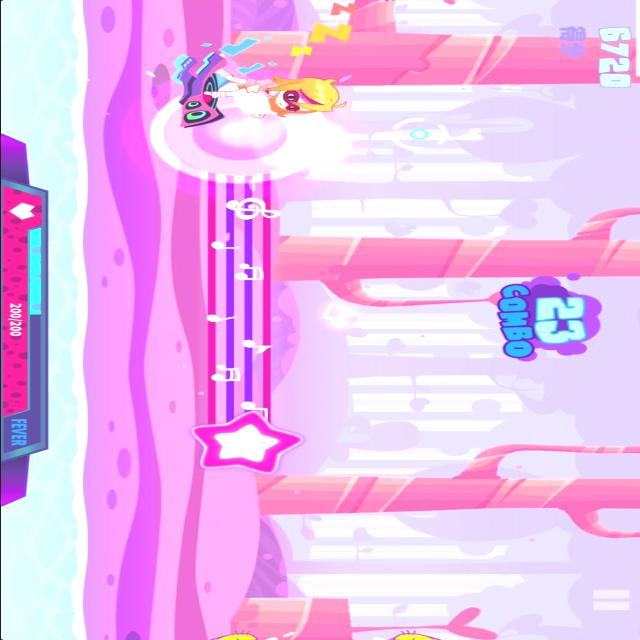hold: (178, 131, 310, 477)
